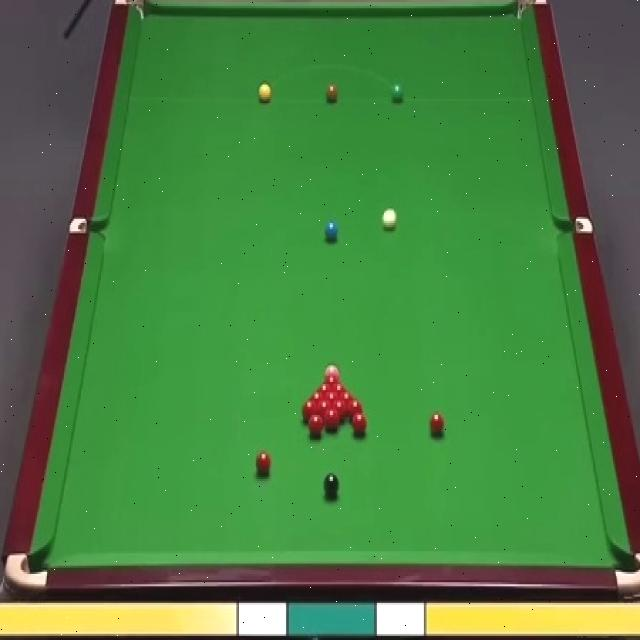black-ball: (322, 471, 338, 497)
blue-ball: (324, 222, 339, 239)
brown-ball: (325, 82, 339, 104)
green-ball: (390, 81, 405, 104)
pink-ball: (325, 365, 340, 380)
red-ball: (306, 413, 324, 437), (429, 413, 444, 440), (254, 451, 270, 475), (351, 412, 367, 436), (345, 399, 361, 420), (324, 408, 339, 430), (302, 399, 316, 422), (333, 401, 347, 422), (311, 391, 323, 404), (326, 392, 337, 405), (326, 377, 336, 389)
white-ball: (382, 209, 396, 233)
yellow-ball: (259, 82, 271, 104)
